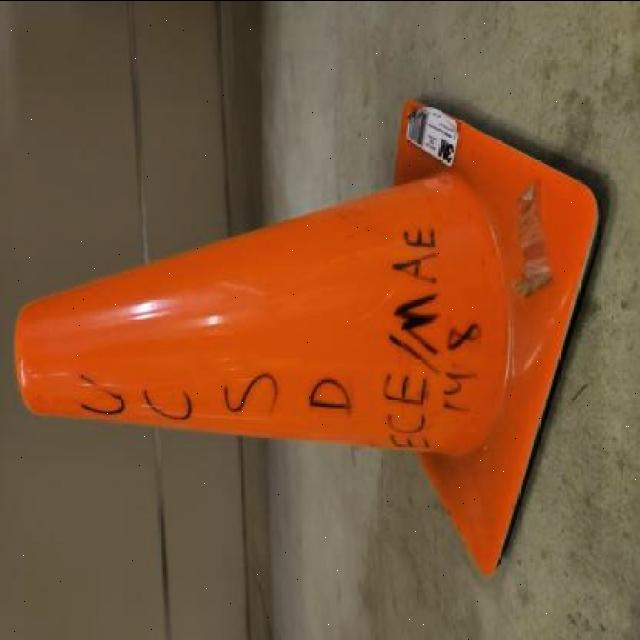traffic cone: (10, 89, 612, 595)
